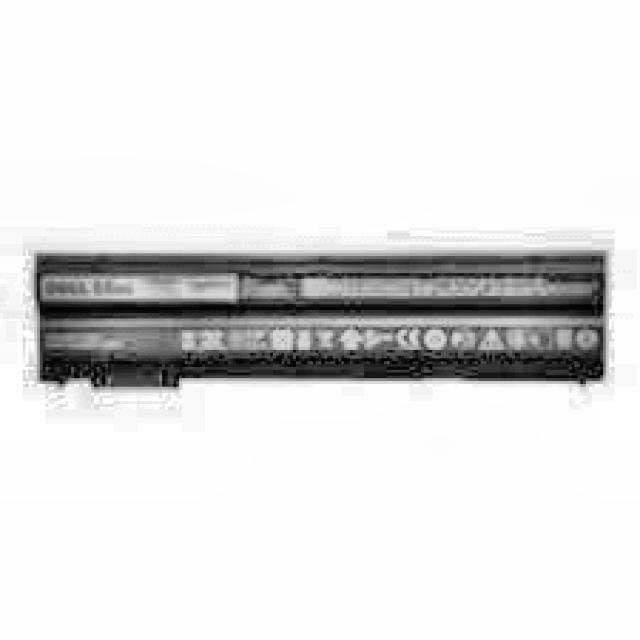Battery: (31, 242, 609, 392)
